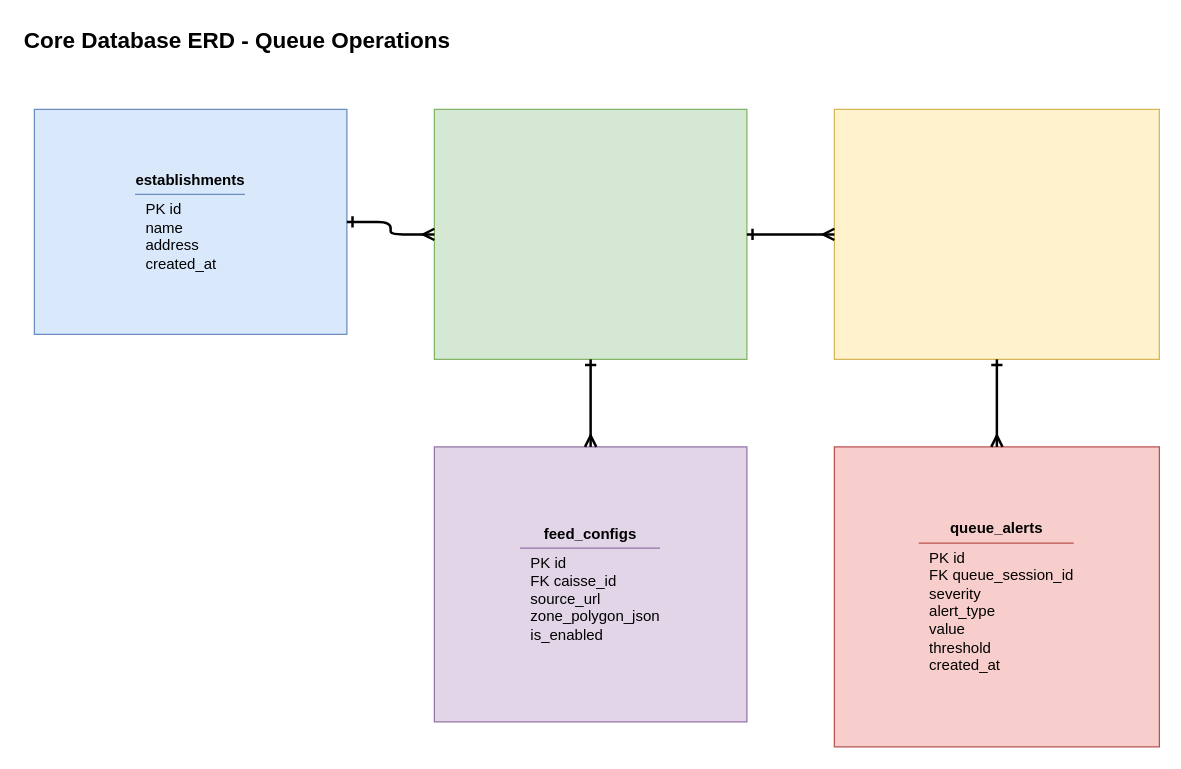
This 1181x769 diagram has some shape labels left out. Each missing label, with the centre of its shape:
"caisses PK id FK establishment_id name camera_id is_active" belongs at (590,233).
"queue_sessions PK id FK caisse_id started_at ended_at status" belongs at (996,233).
